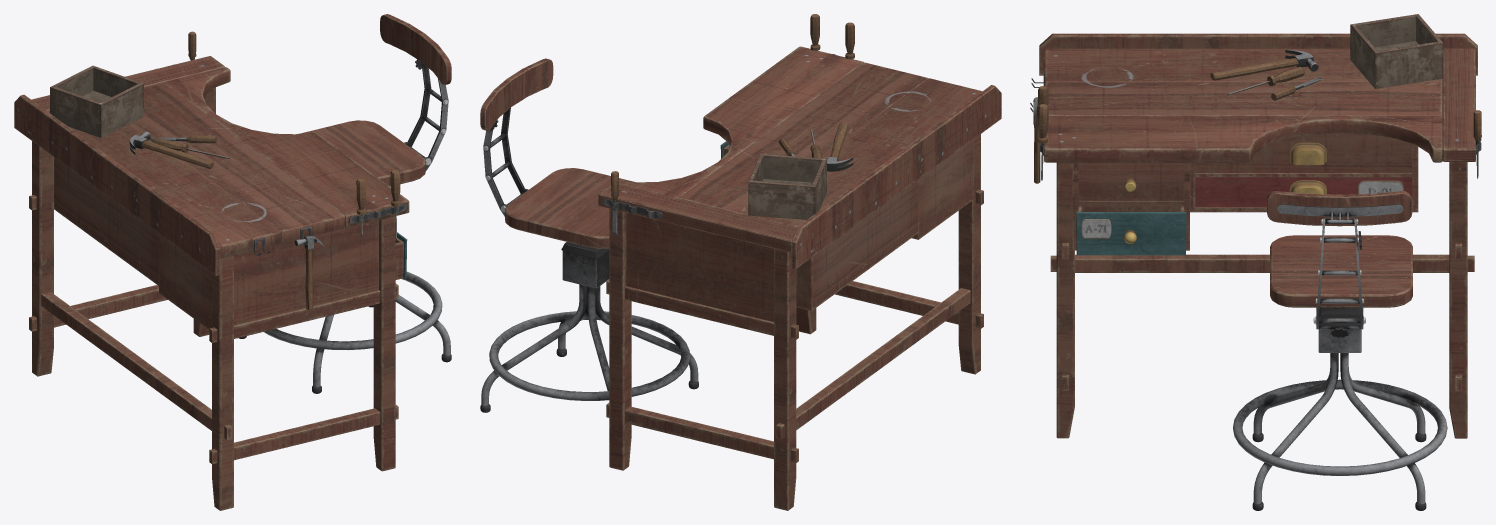
File: workbench.glb
3 renders of one model, left to right at view 1: azimuth 30°, elevation 25°; view 2: azimuth 150°, elevation 25°; view 3: azimuth 270°, elevation 25°, orthographic. The views are drawn at different scales.
Parts seen in each view (by area): view 1: Table, Chair, Tool; view 2: Table, Chair, Tool; view 3: Table, Chair, Tool.
Boxes of the visible parts, x1,y1,x2,y2 form: Table: (14,56,409,510); Chair: (239,14,451,393); Tool: (50,31,400,309); Table: (598,46,1001,510); Chair: (480,58,698,412); Tool: (611,14,854,235); Table: (1030,33,1481,438); Chair: (1233,191,1447,510); Tool: (1033,14,1481,183).
Bounding box in the file's own units: 1.39 × 1.11 × 1.38.
3 materials, 3 textured.
